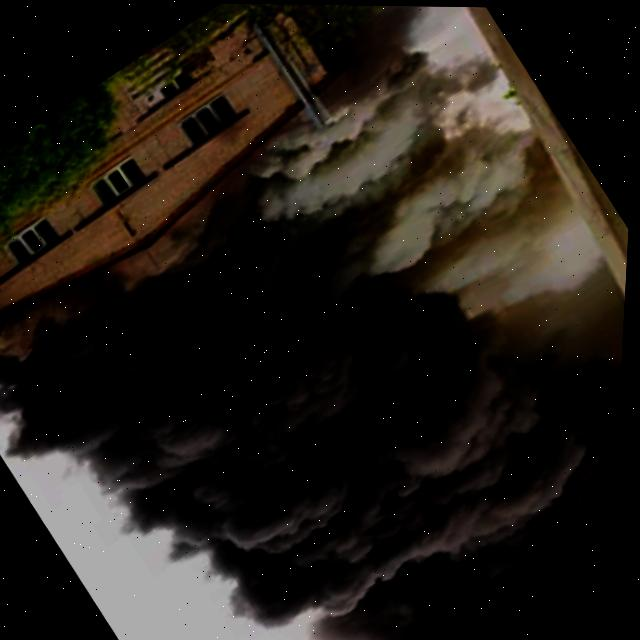Smoke: (0, 27, 639, 640)
